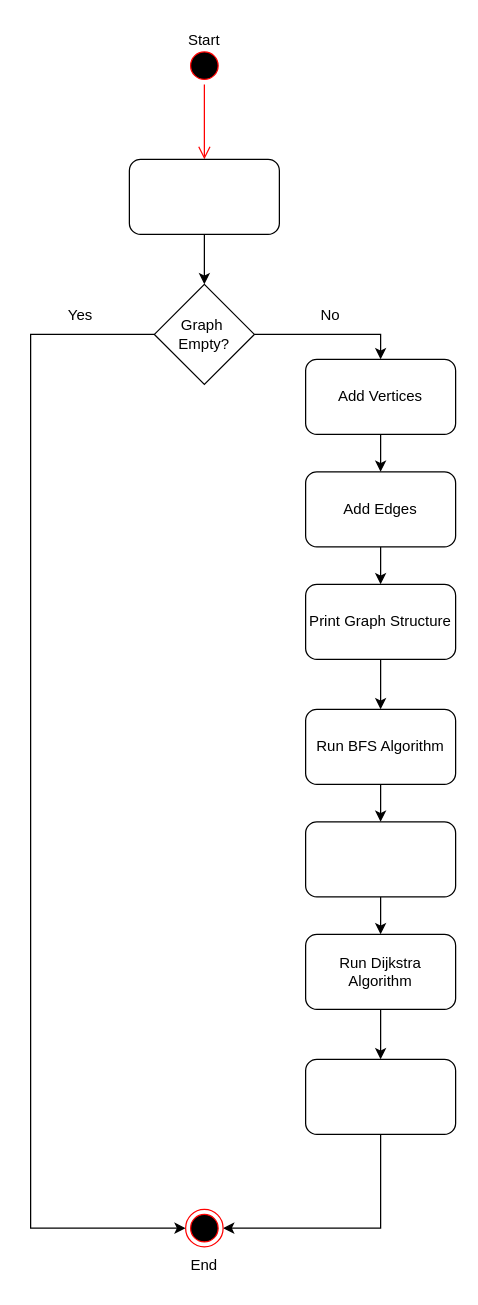
The diagram is 478 pixels wide and 1305 high, and some of its shapes have lost their labels. The centre of each missing label's shape, as x and y in pixels:
Create Graph: the point at 203,196
Display Results: the point at 380,1096
Run DFS Algorithm: the point at 380,859
